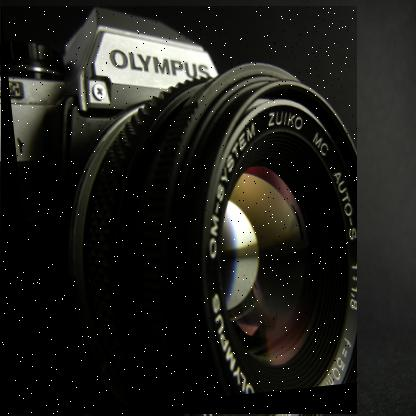Camera: (2, 7, 359, 416)
